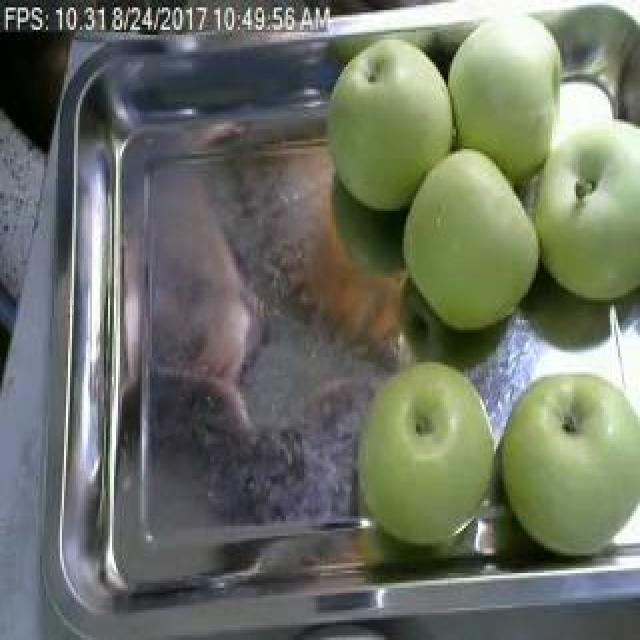Rotten Apple: (350, 351, 502, 559), (498, 370, 640, 570), (316, 15, 454, 208), (405, 144, 529, 350), (447, 0, 575, 171), (540, 120, 640, 302)
